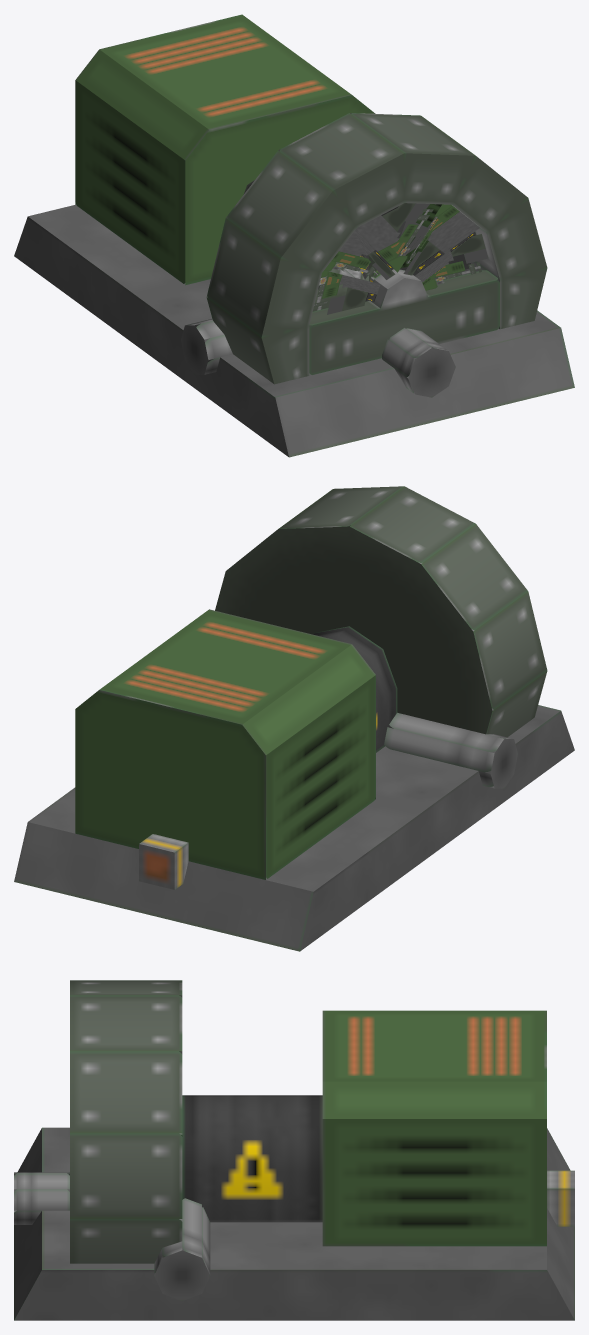
Rendered from turbine.obj.
3 views of the same model, one above another, from view 1: azimuth 30°, elevation 25°; view 2: azimuth 150°, elevation 25°; view 3: azimuth 270°, elevation 25° (orthographic).
Parts seen in each view (by area): view 1: Body, Glass_Glaass, Blades; view 2: Body; view 3: Body.
Boxes of the visible parts, x1,y1,x2,y2 form: Body: (14,14,574,457); Glass_Glaass: (312,203,488,314); Blades: (313,204,470,309); Body: (14,486,574,951); Body: (14,980,574,1320).
Size of the model in its own units: 3.25 by 2.5 by 5.
